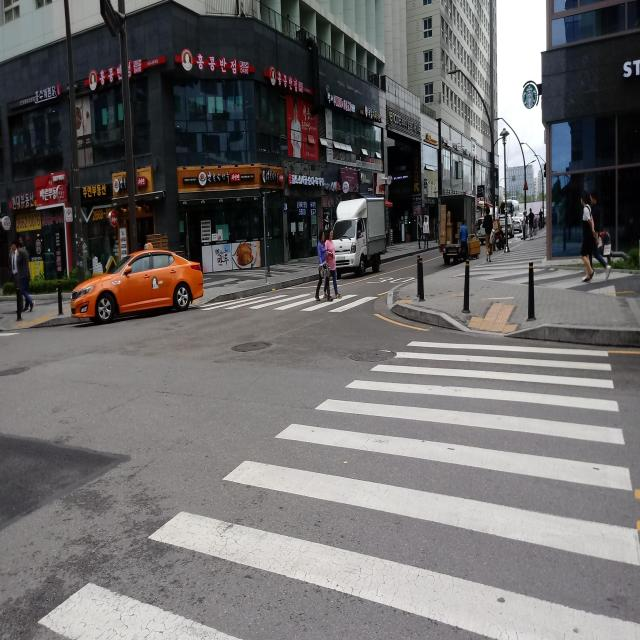횡단보도: (34, 330, 639, 640), (198, 292, 377, 316)
